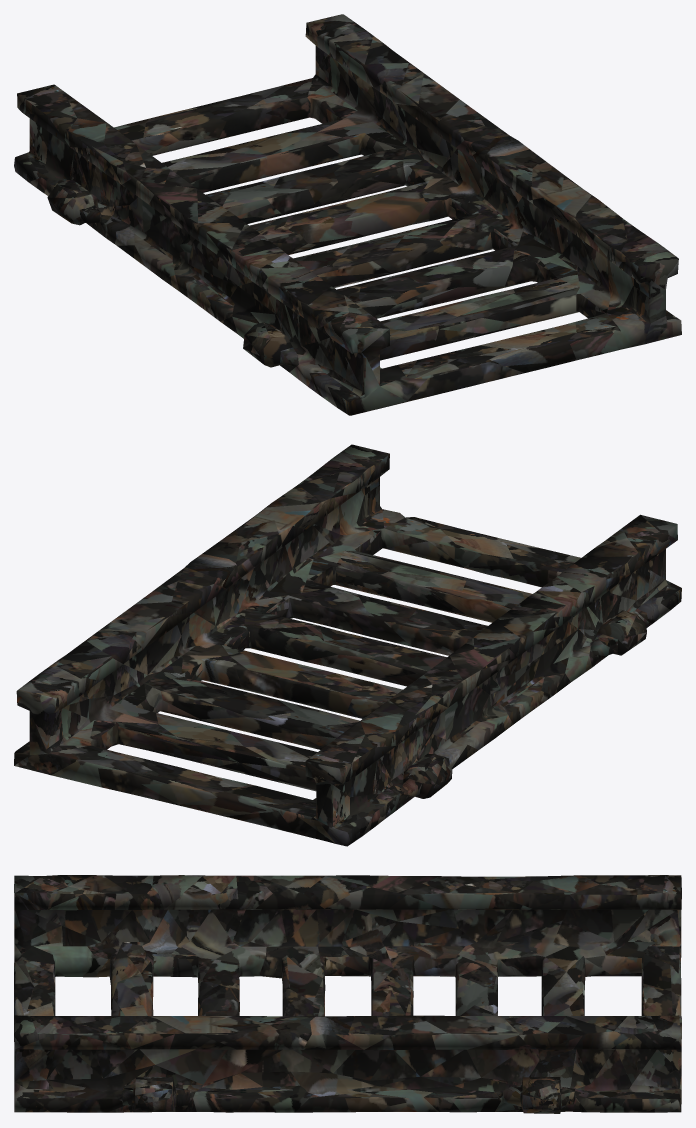
Rendered from rieles.fbx.
3 renders of one model, top to bottom at view 1: azimuth 30°, elevation 25°; view 2: azimuth 150°, elevation 25°; view 3: azimuth 270°, elevation 25°, orthographic.
Parts seen in each view (by area): view 1: input.002; view 2: input.002; view 3: input.002.
Boxes of the visible parts, bbox=[...] form: input.002: bbox=[14, 14, 681, 415]; input.002: bbox=[14, 444, 681, 846]; input.002: bbox=[14, 875, 681, 1113].
Size of the model in its own units: 100 by 19.24 by 150.
